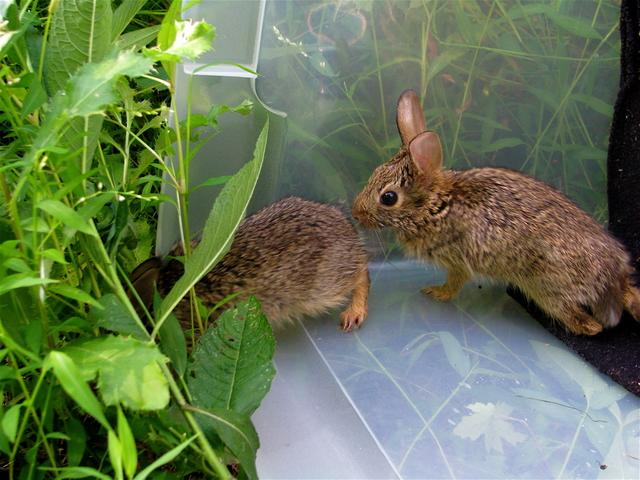rabbit: (345, 83, 640, 371), (88, 168, 369, 376)
